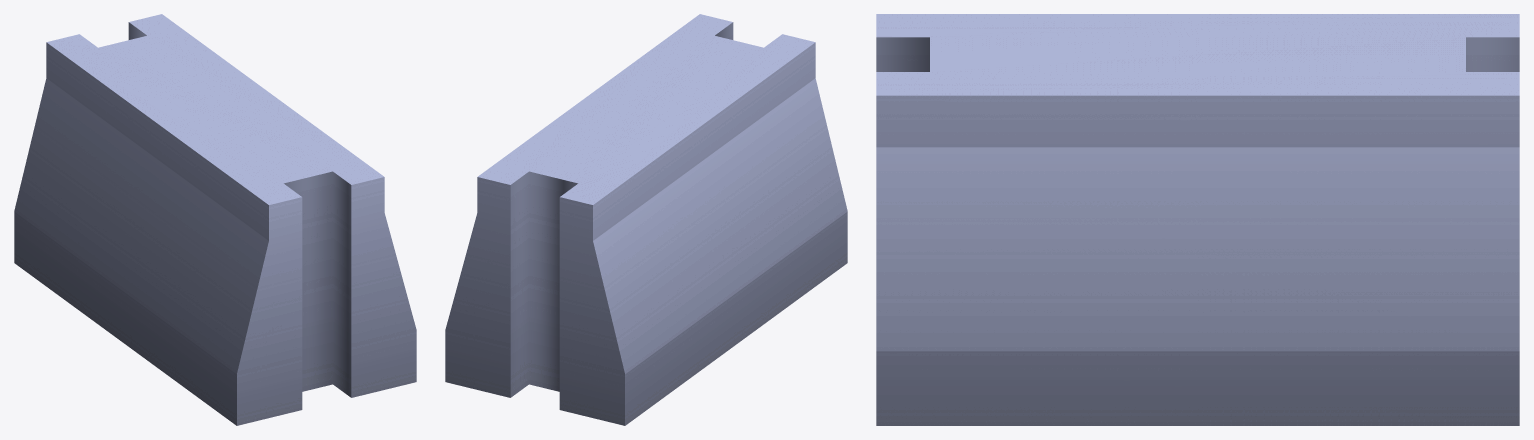
Rendered from construction-barrier.glb.
The picture shows the model from 3 angles, left to right: view 1: azimuth 30°, elevation 25°; view 2: azimuth 150°, elevation 25°; view 3: azimuth 270°, elevation 25°; orthographic projection. The views are drawn at different scales.
Visible parts, largest first — view 1: construction-barrier; view 2: construction-barrier; view 3: construction-barrier.
Boxes of the visible parts, x1,y1,x2,y2 form: construction-barrier: (14, 14, 416, 425); construction-barrier: (445, 14, 847, 425); construction-barrier: (876, 14, 1519, 425).
Bounding box in the file's own units: 0.105 × 0.1187 × 0.225.
